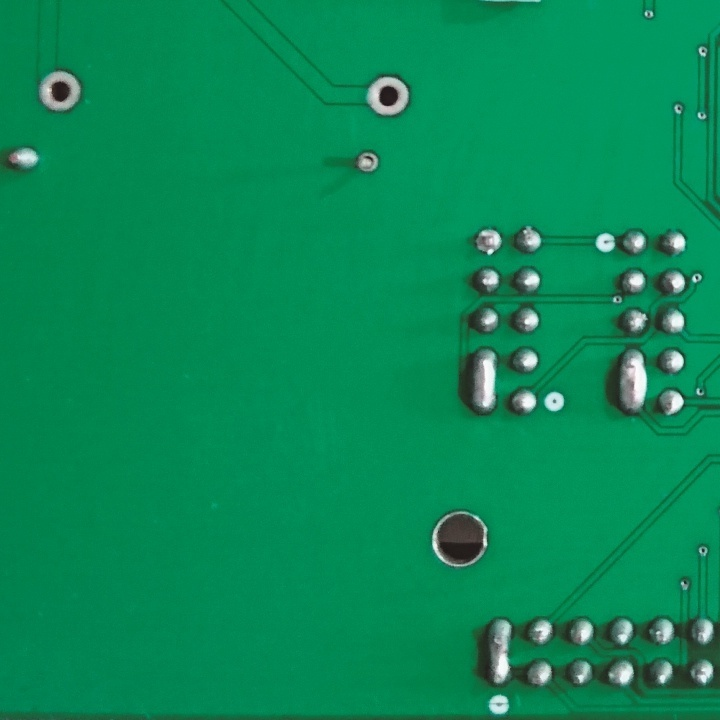F: (364, 71, 412, 120), (36, 66, 84, 115), (472, 223, 503, 260), (355, 148, 381, 177)
P: (608, 343, 650, 419), (463, 343, 501, 420), (481, 614, 516, 690)
